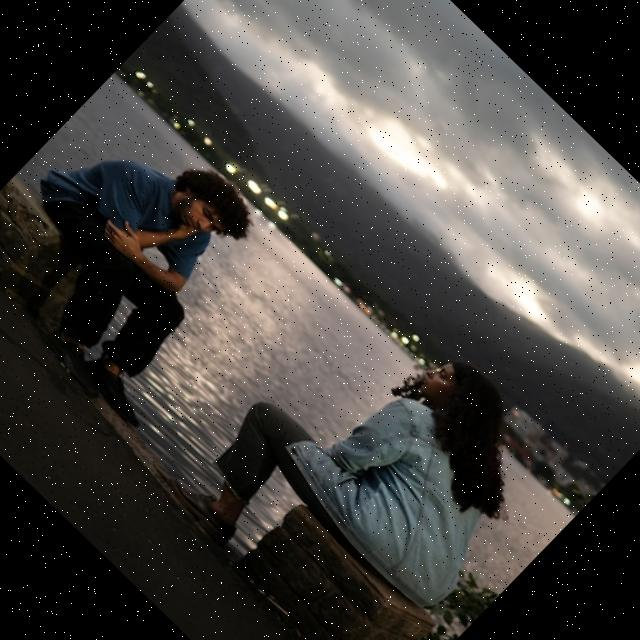Person: (162, 269, 578, 640), (0, 87, 305, 439)
